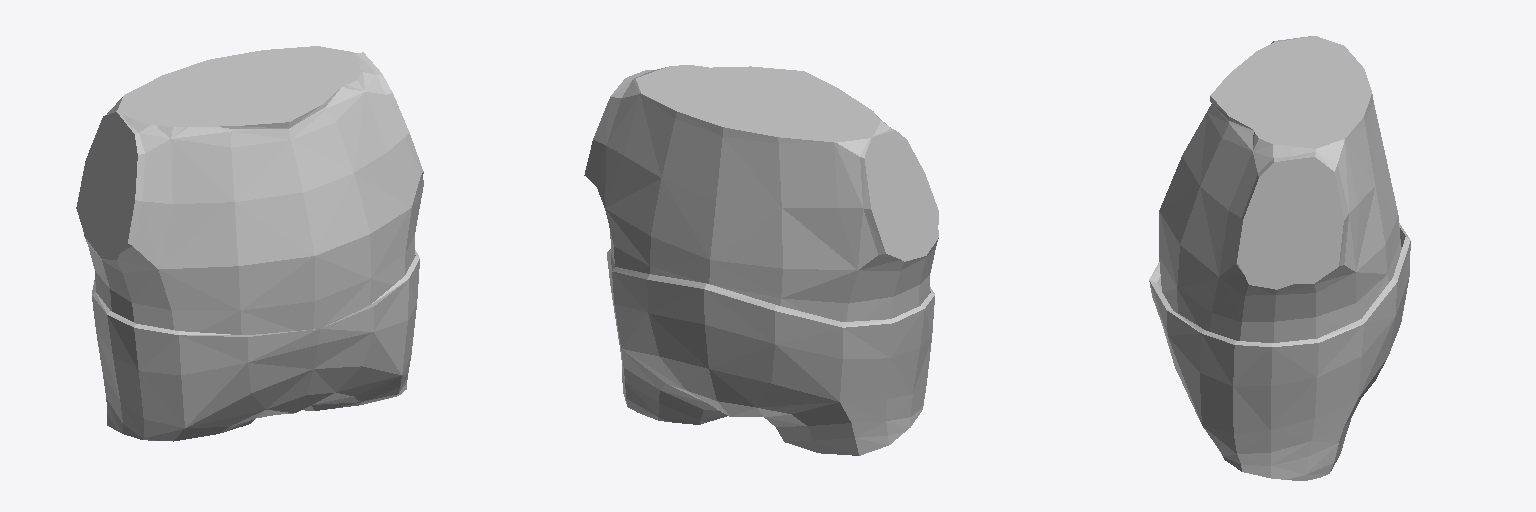
File: body.obj
3 views of the same model, side by side, from view 1: azimuth 30°, elevation 25°; view 2: azimuth 150°, elevation 25°; view 3: azimuth 270°, elevation 25° (orthographic).
Parts seen in each view (by area): view 1: Patrick; view 2: Patrick; view 3: Patrick.
Part boxes in pixels (left/top/right/bottom): Patrick: left=76, top=46, right=423, bottom=441; Patrick: left=584, top=65, right=938, bottom=455; Patrick: left=1149, top=36, right=1410, bottom=480.
Size of the model in its own units: 2.92 by 2.91 by 2.11.